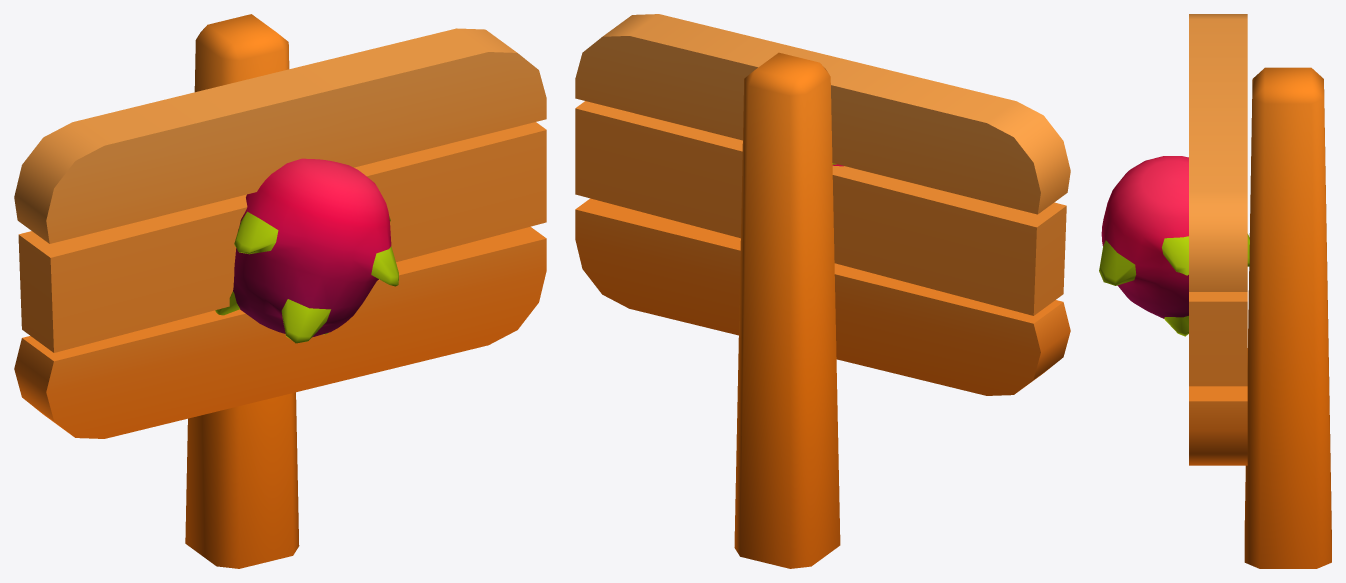
File: Farm_Crop_Sign_Dragon_Fruit_01.fbx
3 views of the same model, side by side, from view 1: azimuth 30°, elevation 25°; view 2: azimuth 150°, elevation 25°; view 3: azimuth 270°, elevation 25° (orthographic). The views are drawn at different scales.
Visible parts, largest first — view 1: Farm_Crop_Sign_Dragon_Fruit_01; view 2: Farm_Crop_Sign_Dragon_Fruit_01; view 3: Farm_Crop_Sign_Dragon_Fruit_01.
Boxes of the visible parts, x1,y1,x2,y2 form: Farm_Crop_Sign_Dragon_Fruit_01: (14, 14, 546, 568); Farm_Crop_Sign_Dragon_Fruit_01: (575, 14, 1070, 568); Farm_Crop_Sign_Dragon_Fruit_01: (1099, 14, 1331, 568).
Size of the model in its own units: 90.11 by 88.8 by 39.64.
